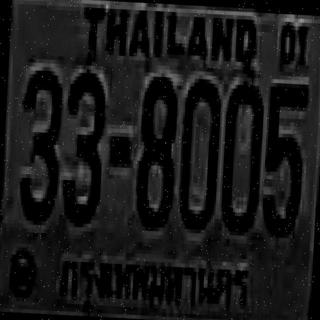N00: (218, 78, 264, 230), (177, 76, 220, 228)
N03: (60, 68, 106, 224), (18, 66, 62, 218)
N05: (260, 79, 308, 235)
N08: (134, 72, 177, 224)
P04: (55, 242, 251, 315)
